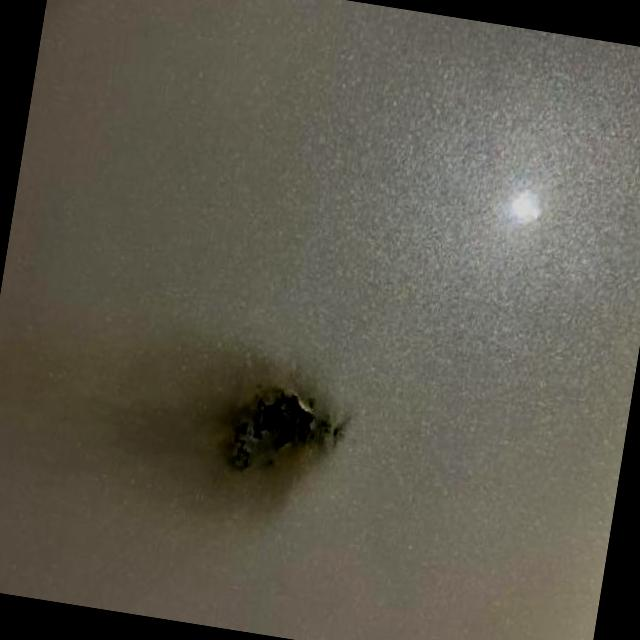crack: (223, 395, 344, 475)
